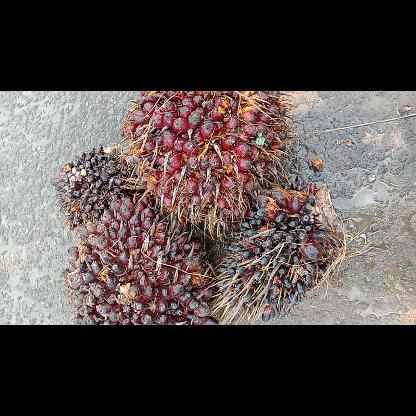Kurang masak: (62, 193, 214, 323)
TBS abnormal: (220, 176, 344, 320), (51, 146, 133, 228)
TBS masak: (124, 91, 290, 237)
